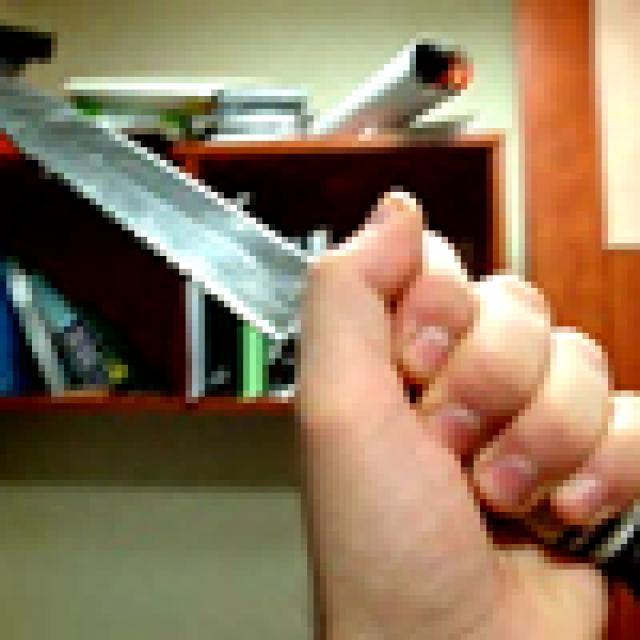Knife: (6, 64, 640, 595)
